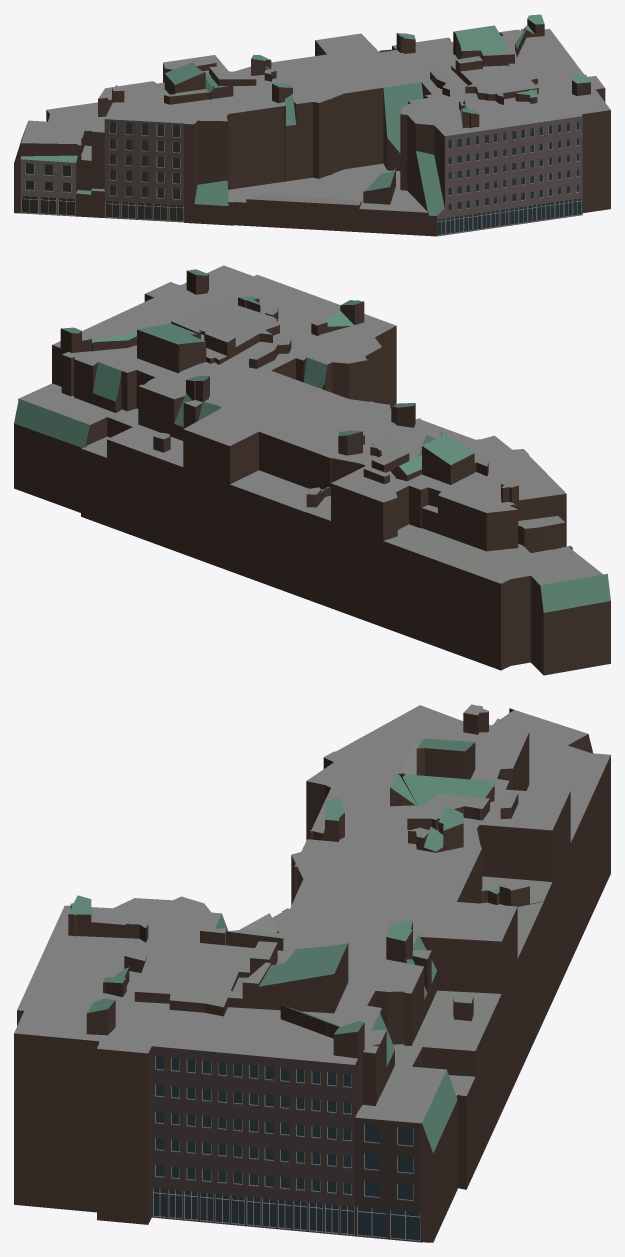
File: recipe-large-weteringstraat-16-184747.glb
The picture shows the model from 3 angles, top to bottom: view 1: azimuth 30°, elevation 25°; view 2: azimuth 150°, elevation 25°; view 3: azimuth 270°, elevation 25°; orthographic projection. The views are drawn at different scales.
Visible parts, largest first — view 1: weteringstraat-16-184747; view 2: weteringstraat-16-184747; view 3: weteringstraat-16-184747.
Part boxes in pixels (x1=…): weteringstraat-16-184747: x1=14, y1=14, x2=610, y2=236; weteringstraat-16-184747: x1=14, y1=265, x2=610, y2=675; weteringstraat-16-184747: x1=14, y1=704, x2=610, y2=1242.
Size of the model in its own units: 117 by 27.62 by 70.5.
